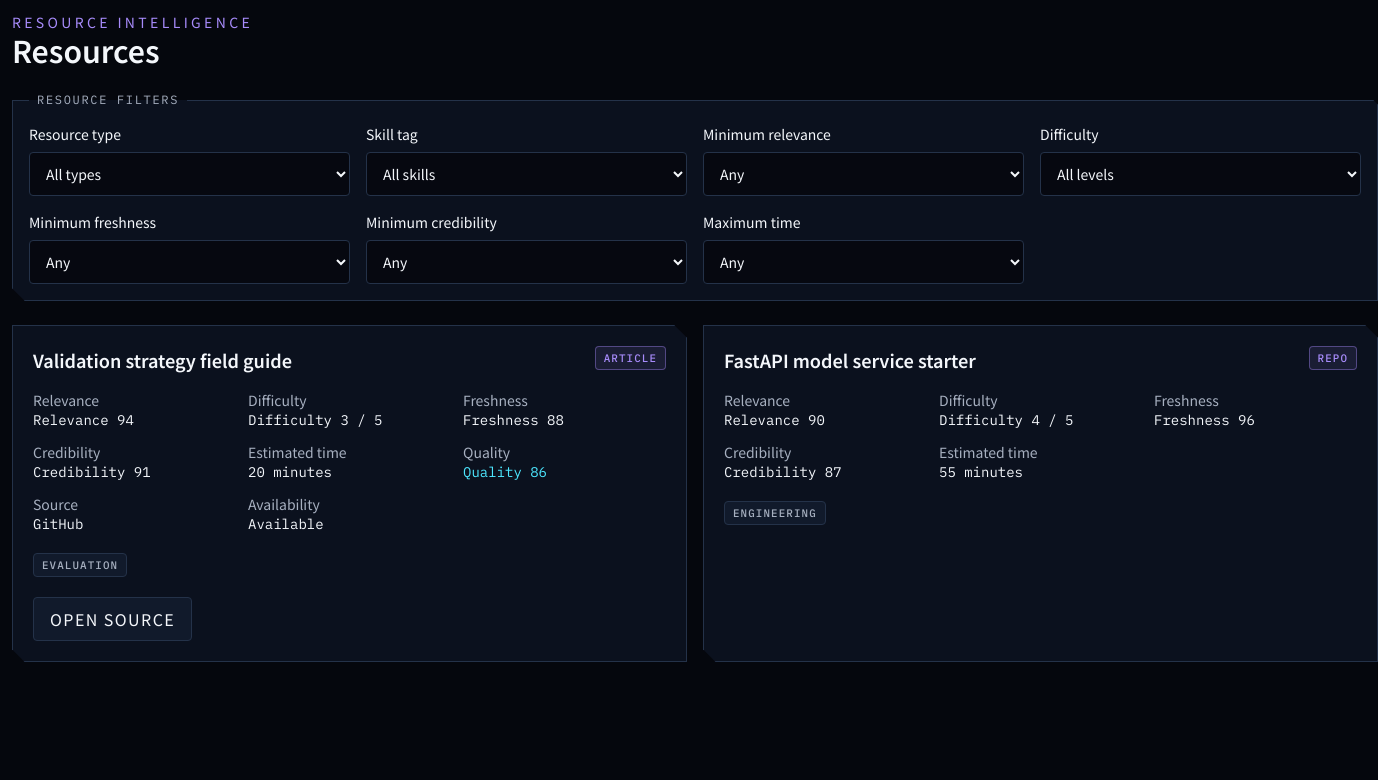
Test: ResourceLibrary › shows every resource quality field and recovers from an empty filter
This screenshot has width=1378, height=780.
Expected: the text "Relevance 94" is shown, [33, 411, 134, 429]
Expected: the text "Difficulty 3 / 5" is shown, [248, 411, 382, 429]
Select "repo" in the dropdown labelled "Resource type" at (190, 174), box [29, 152, 350, 196]
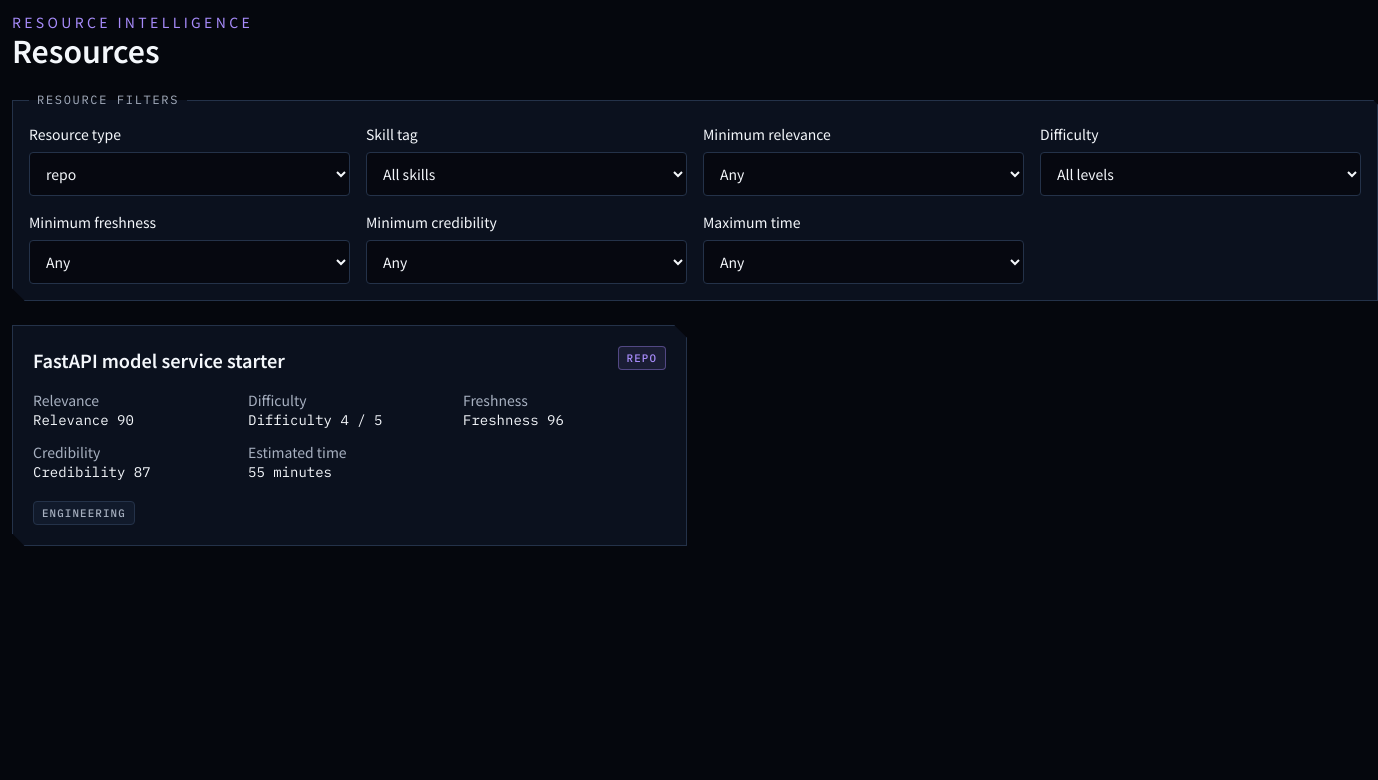
Select "Evaluation" in the dropdown labelled "Skill tag" at (526, 174), box [366, 152, 687, 196]
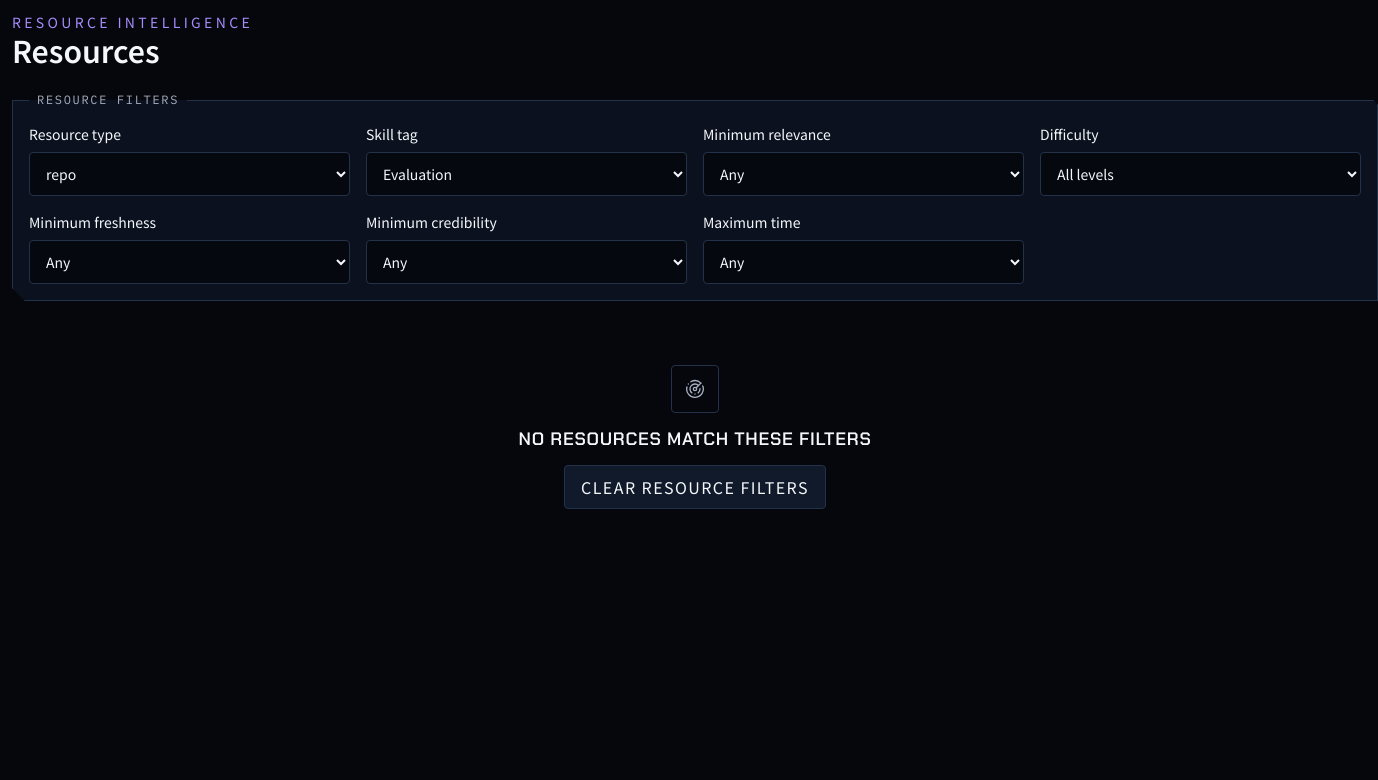
Expected: the heading "No resources match these filters" is shown, [518, 427, 872, 451]
Click the button "Clear Resource Filters" at (695, 487), box [564, 465, 826, 509]
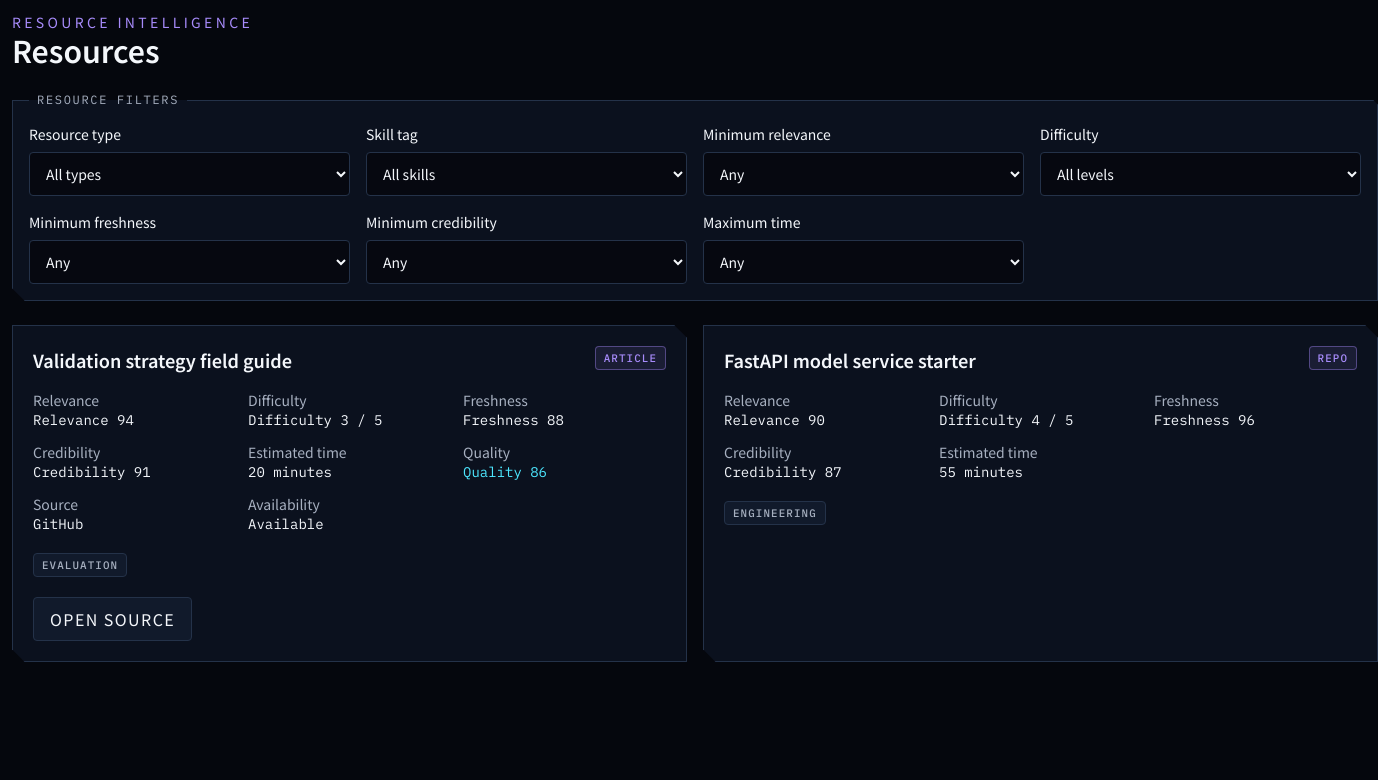
Expected: the heading "Validation strategy field guide" is shown, [33, 347, 292, 373]
Expected: the heading "FastAPI model service starter" is shown, [724, 347, 976, 373]
